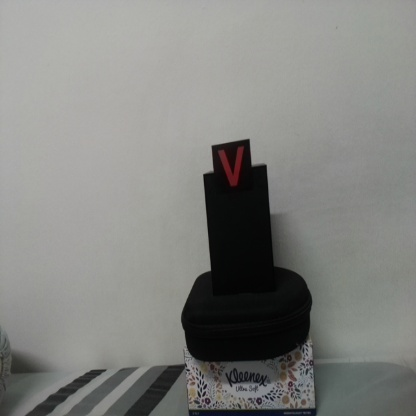id_11: (212, 144, 252, 199)
